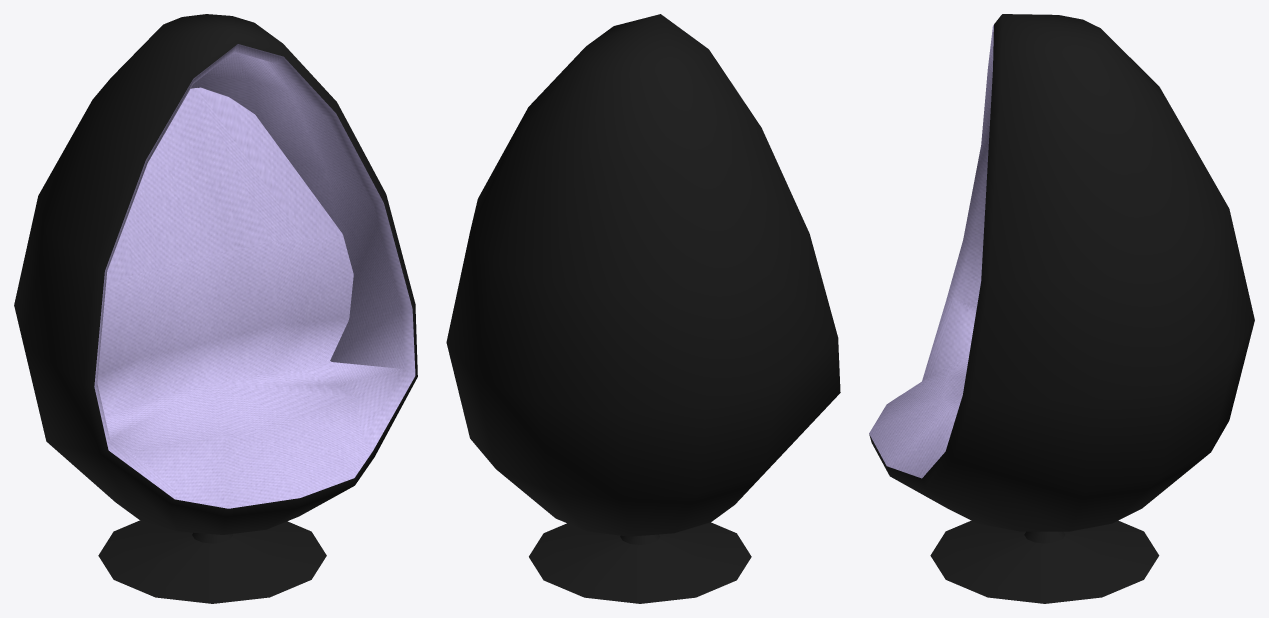
File: Eggchair_B_14.FBX
3 views of the same model, side by side, from view 1: azimuth 30°, elevation 25°; view 2: azimuth 150°, elevation 25°; view 3: azimuth 270°, elevation 25° (orthographic). The views are drawn at different scales.
Visible parts, largest first — view 1: Egg_chair; view 2: Egg_chair; view 3: Egg_chair.
Boxes of the visible parts, left/top/right/bottom form: Egg_chair: left=14, top=14, right=417, bottom=603; Egg_chair: left=446, top=14, right=840, bottom=603; Egg_chair: left=869, top=14, right=1254, bottom=603.
Bounding box in the file's own units: 168 × 261 × 169.
